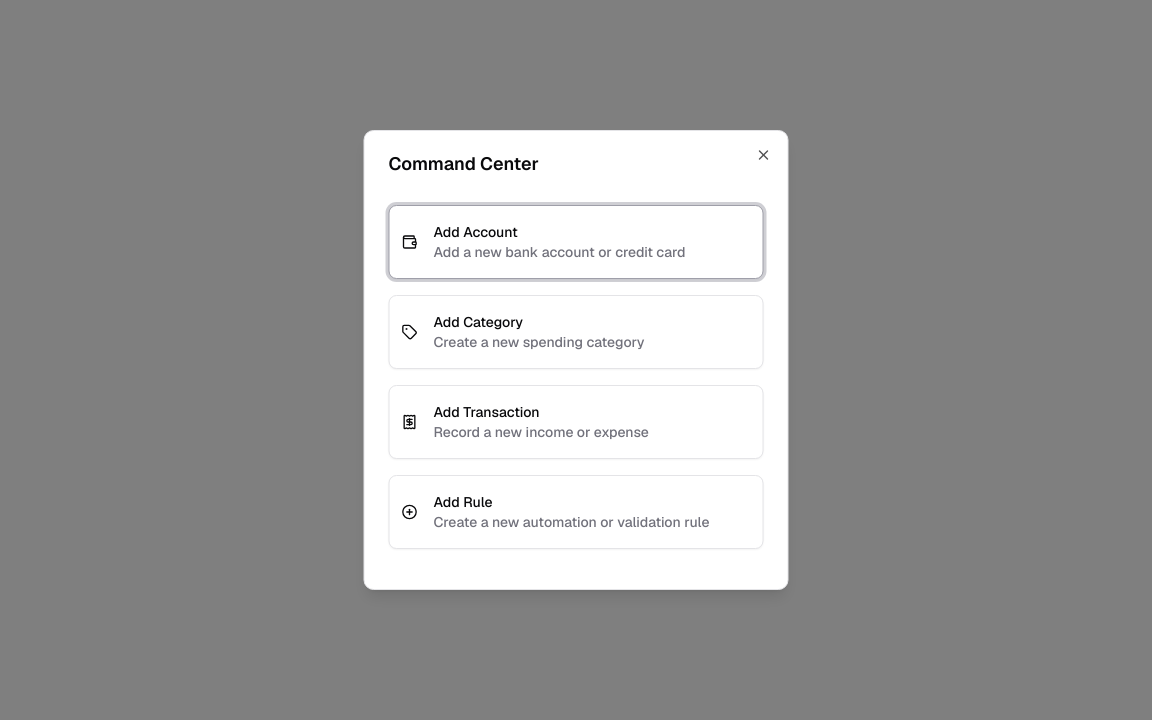
Test case: CommandCenterModal › opens the category form
Click the button "Add Category Create a new spending category" at (576, 332), box [388,295,764,369]
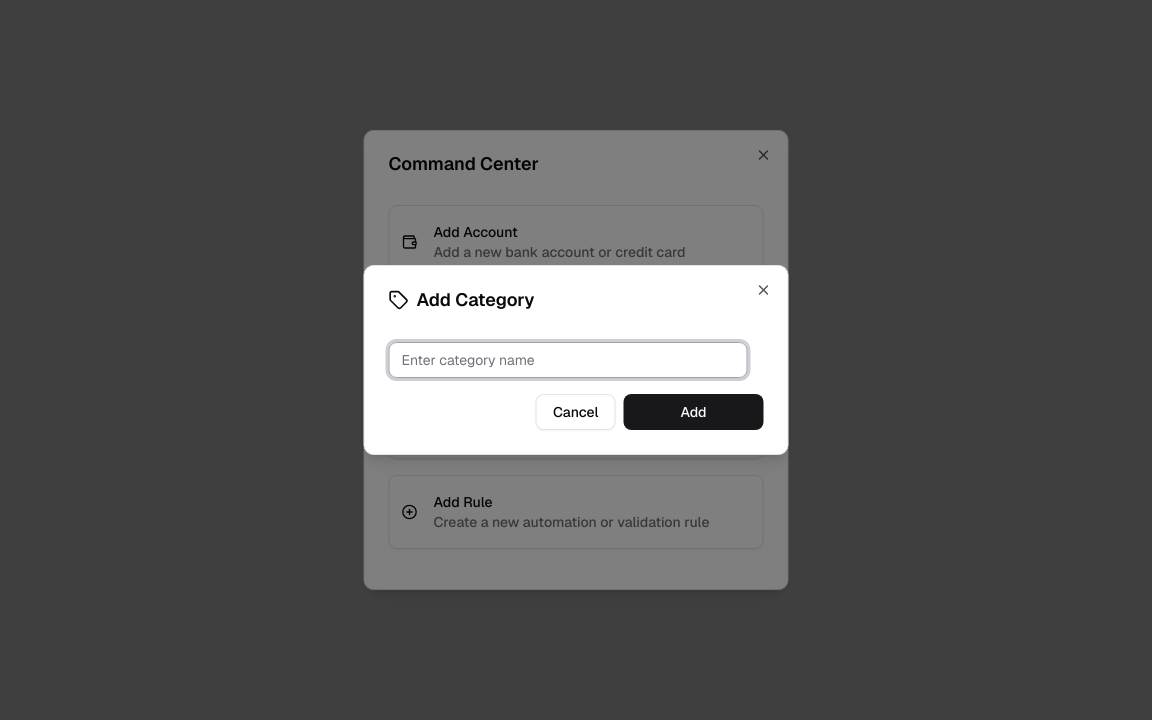
Now the dialog "Add Category Cancel Add" is shown, box [364,265,788,455]
